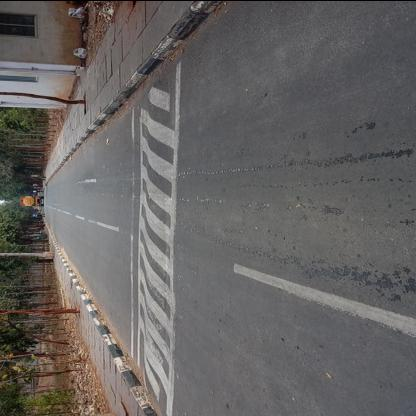speed-bumps: (125, 69, 189, 416)
